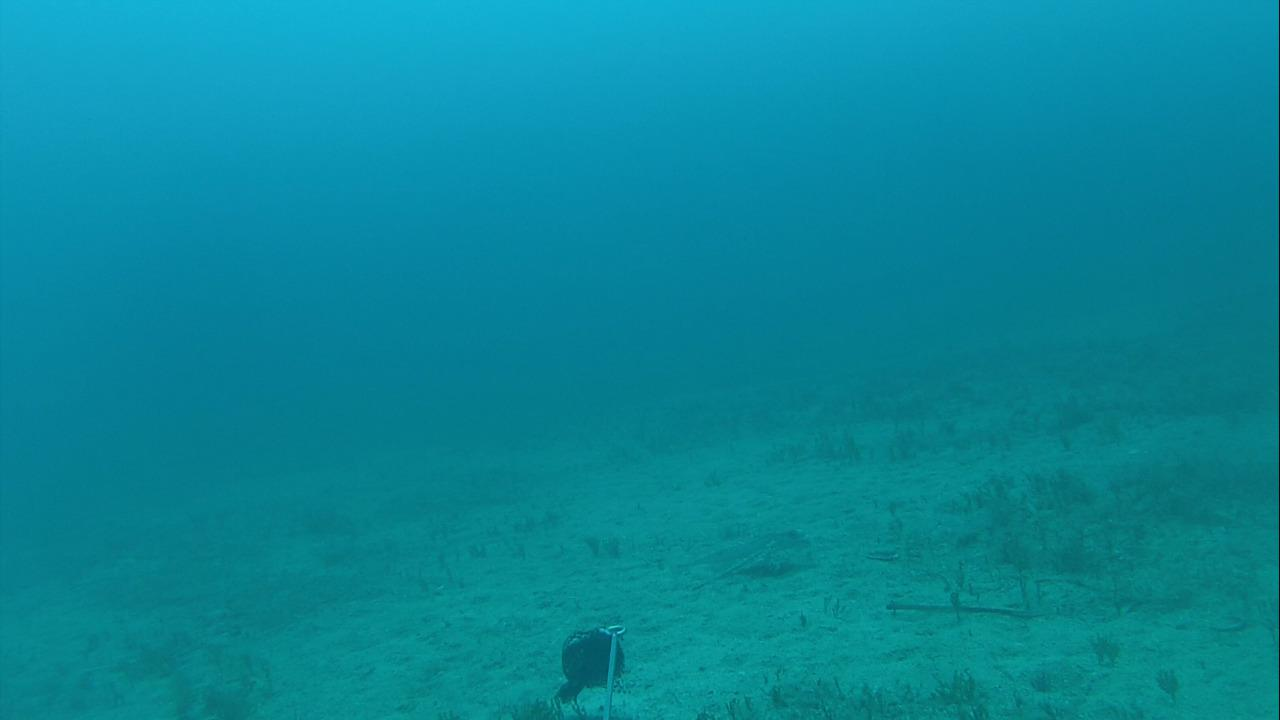dactylopterus: (655, 523, 820, 585)
